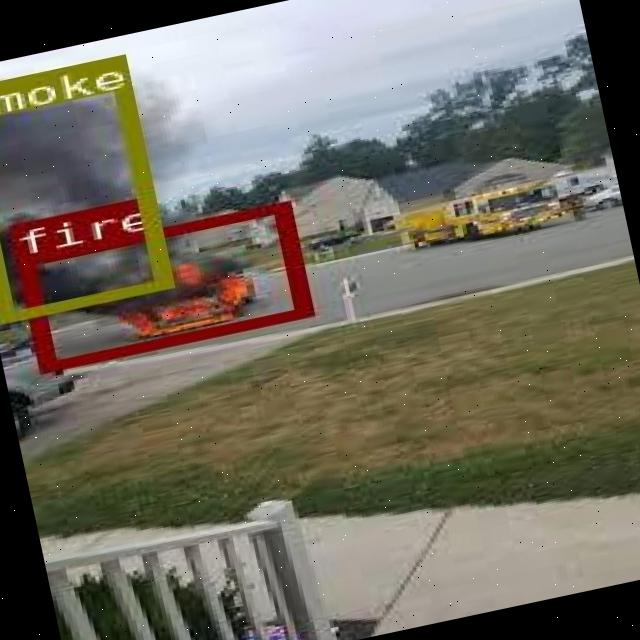fire: (15, 200, 308, 371)
smoke: (0, 54, 170, 322)
